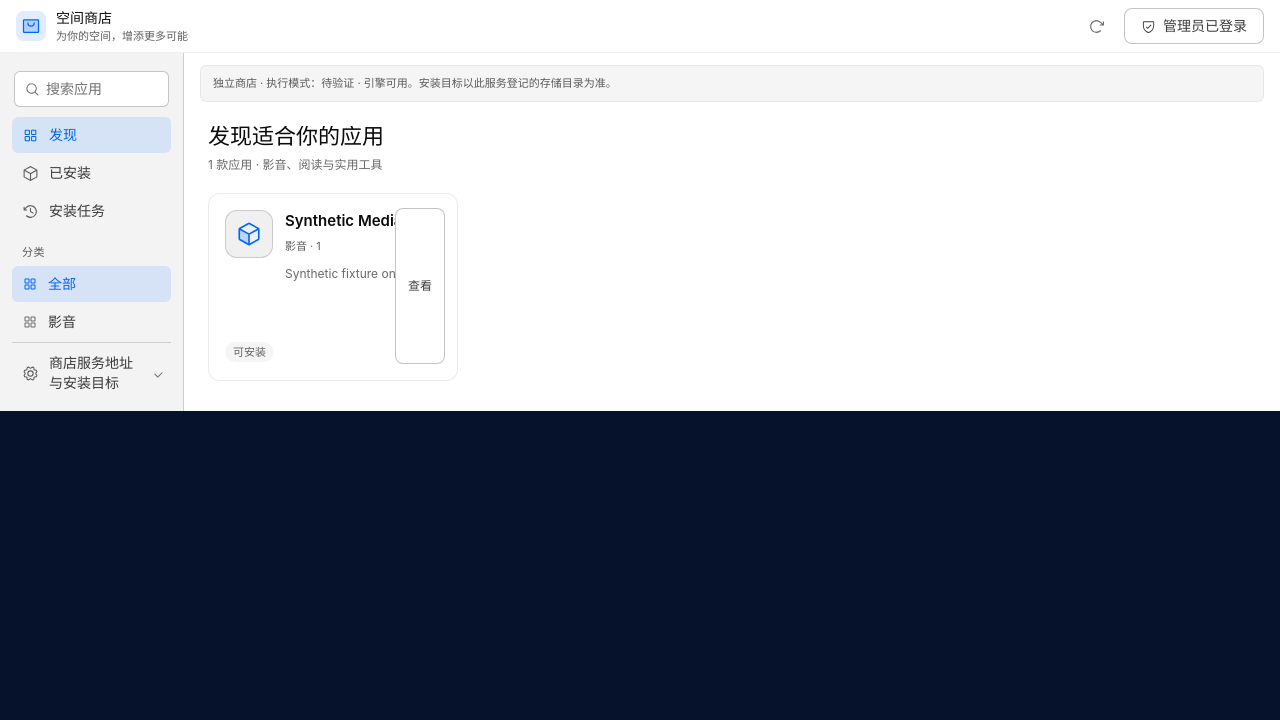
Test case: opens installation wizard when randomUUID is absent over LAN HTTP
The width and height of the screenshot is (1280, 720).
Click the button "查看" at (420,286), box [395,208,445,364]
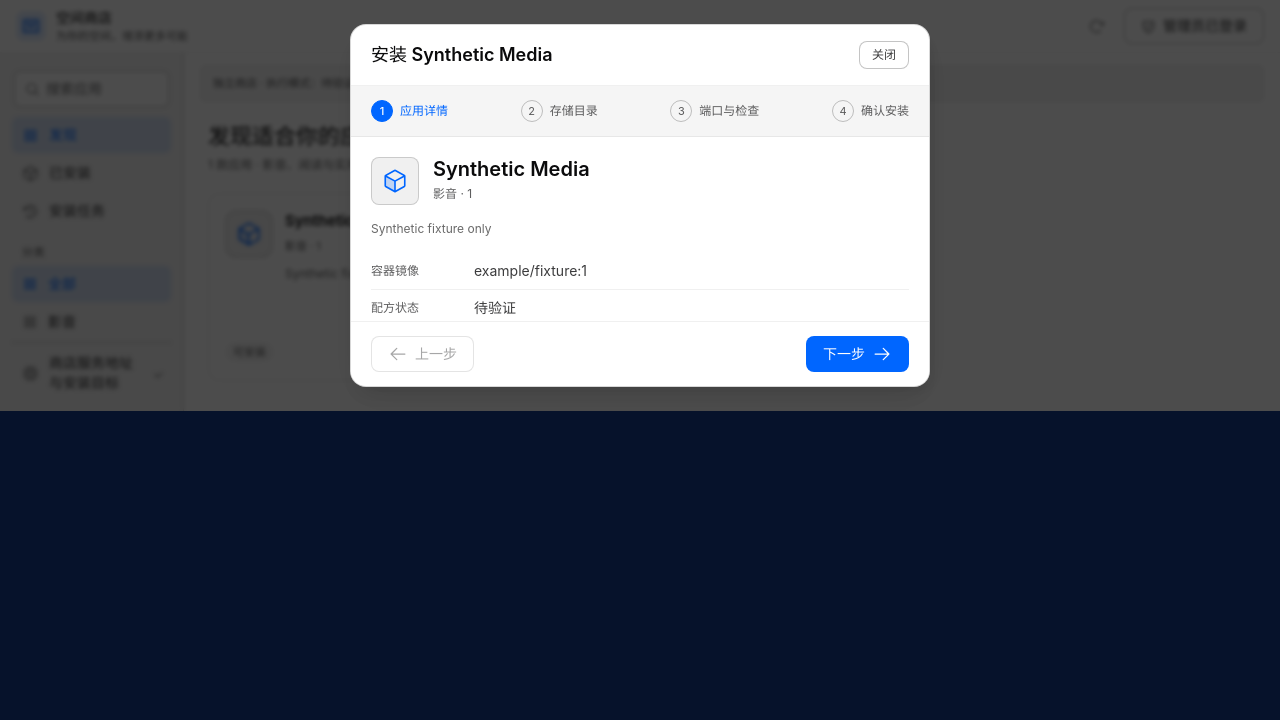
Result: the dialog shows "安装 Synthetic Media" at [350,24,930,387]
